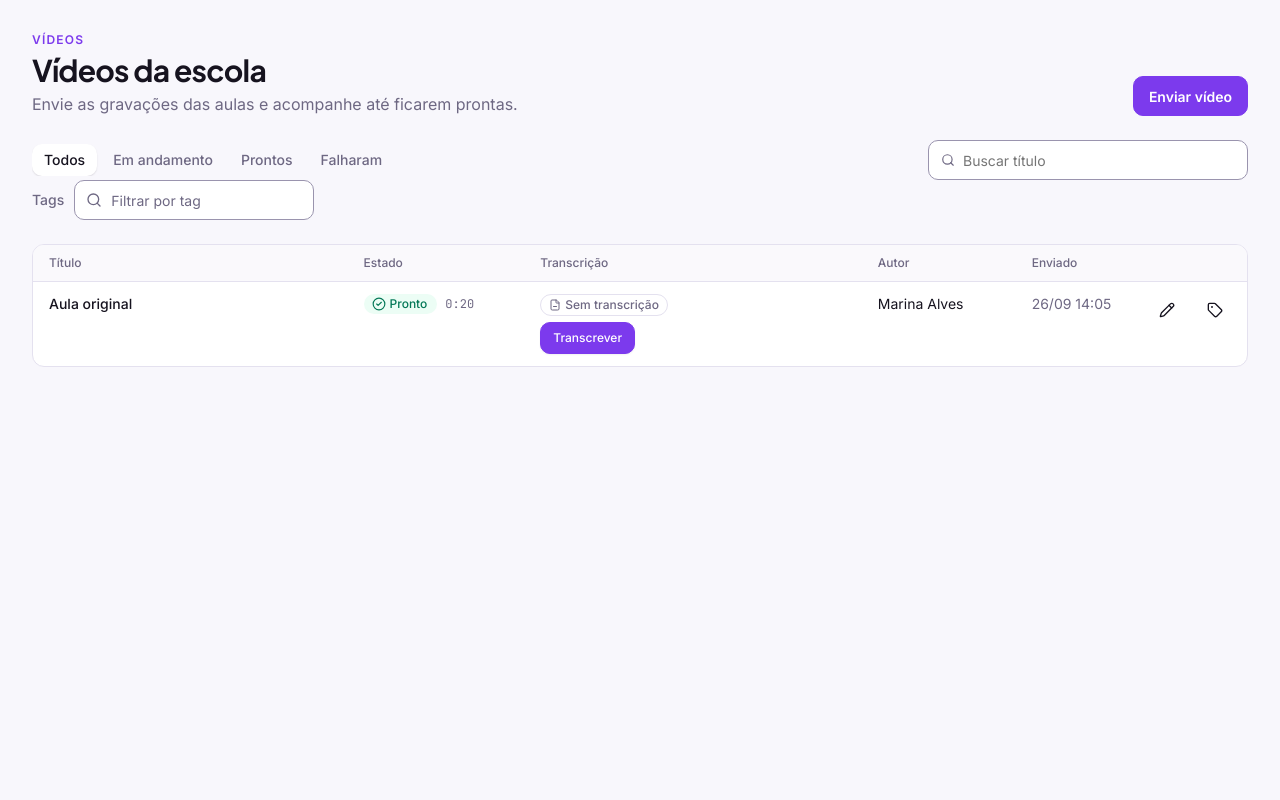
Scenario: video-tags-edit › cancels edits without a write and restores focus
Click the button named "Editar tags de Aula original".
click(1215, 310)  # box [1199, 294, 1231, 326]
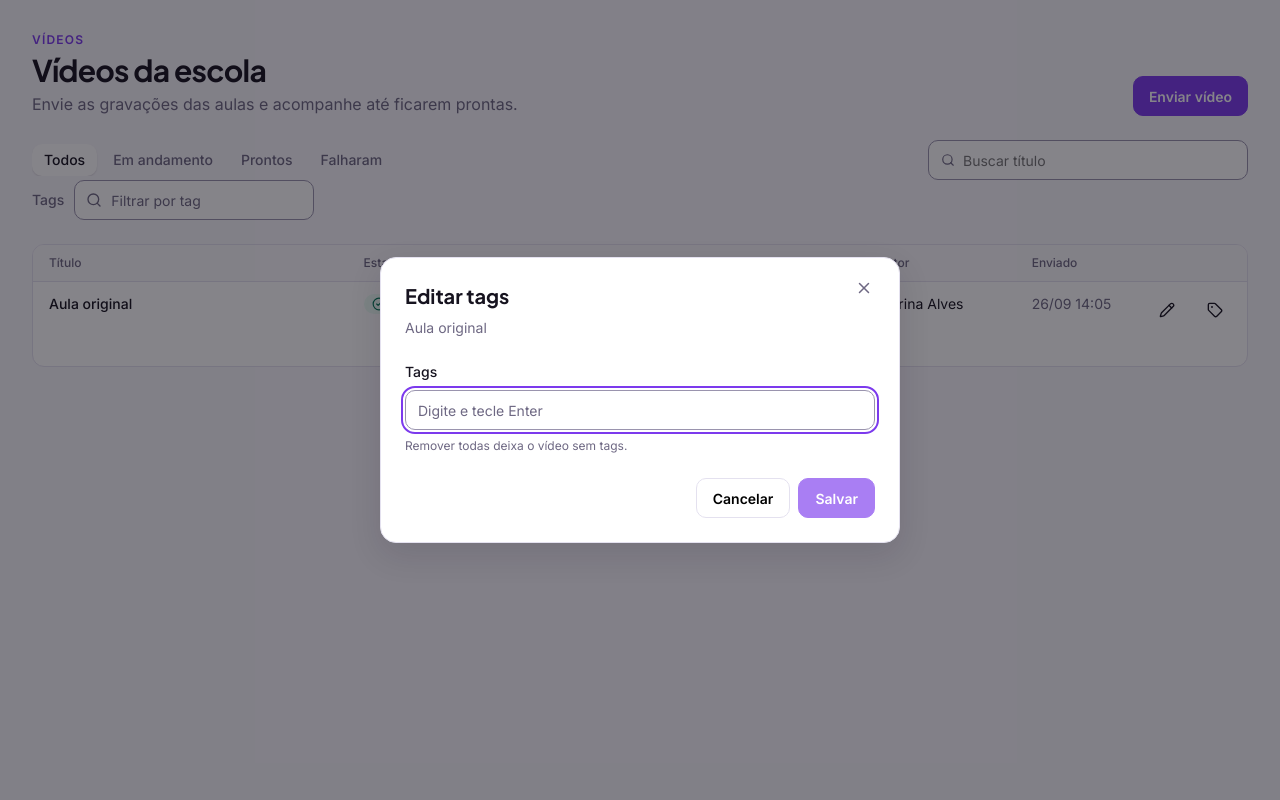
Type "docker" into the dropdown labelled "Tags".
click(640, 410); type("docker")  # box [405, 390, 875, 430]
Then press Enter
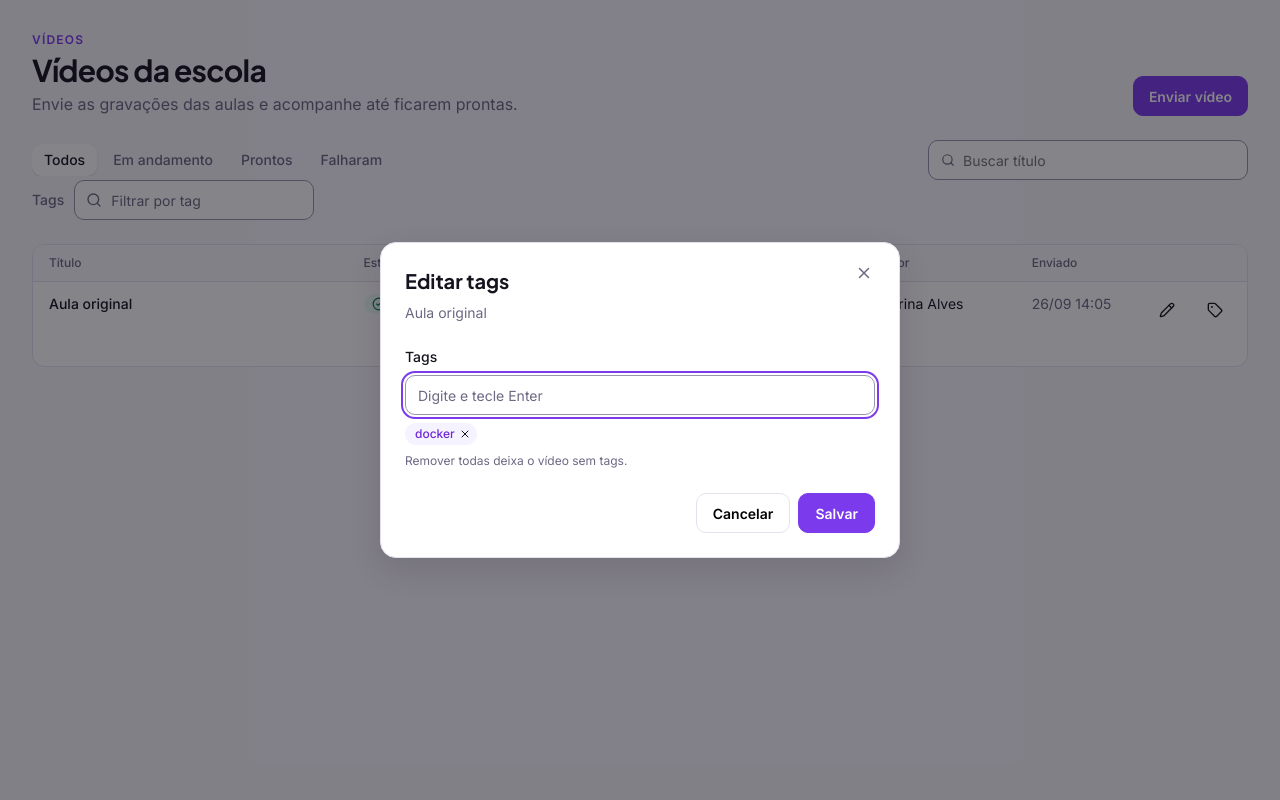
Press Escape
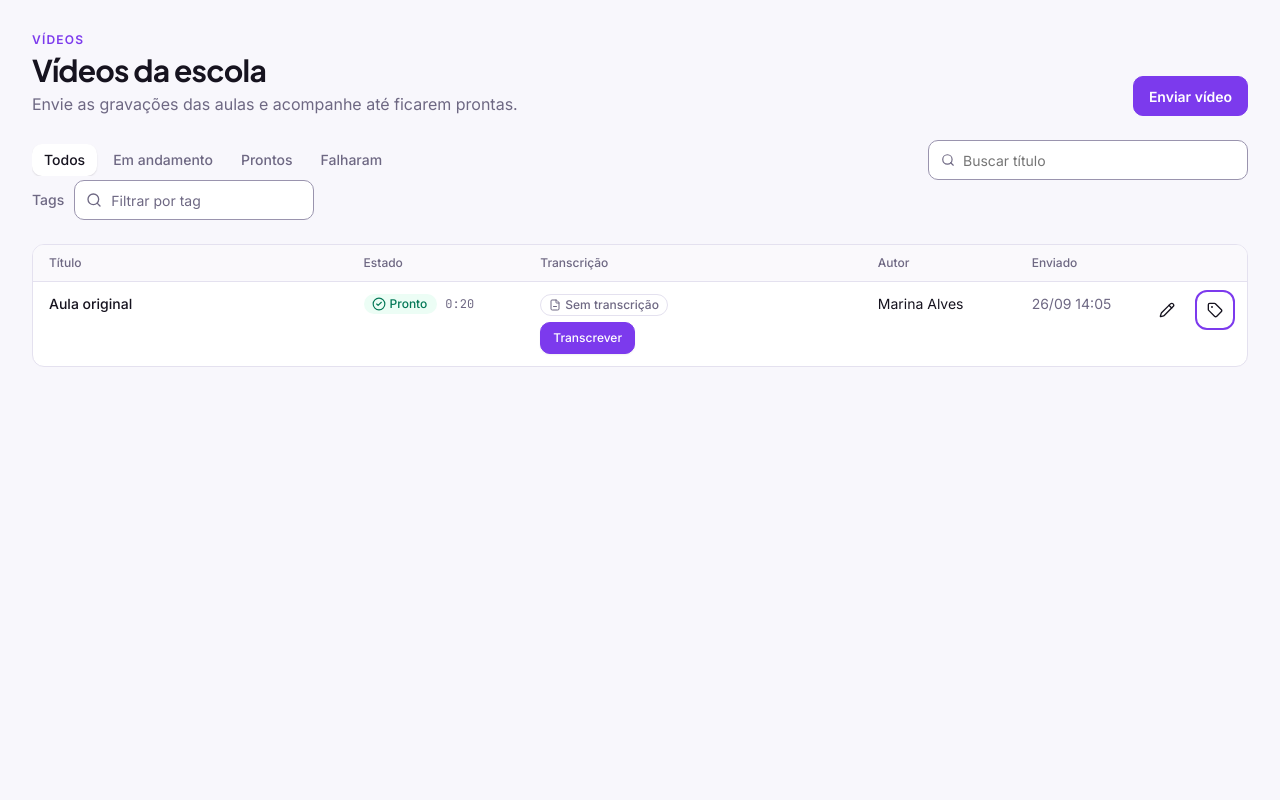
Now the dialog is gone
